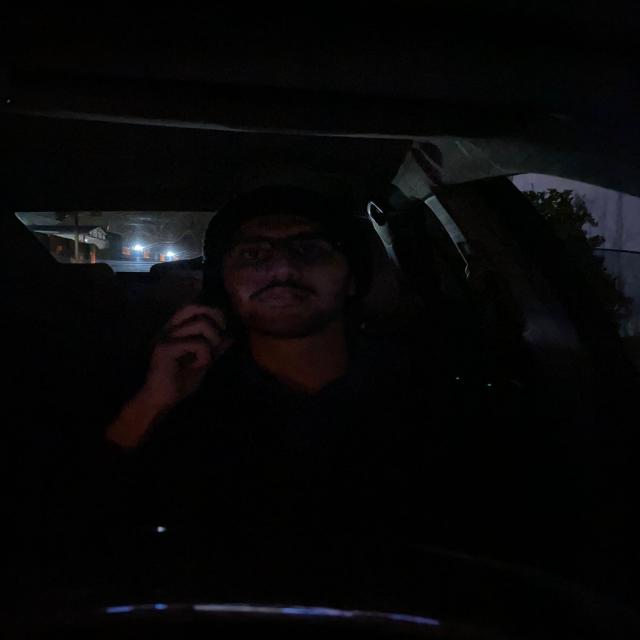person: (196, 177, 382, 360)
